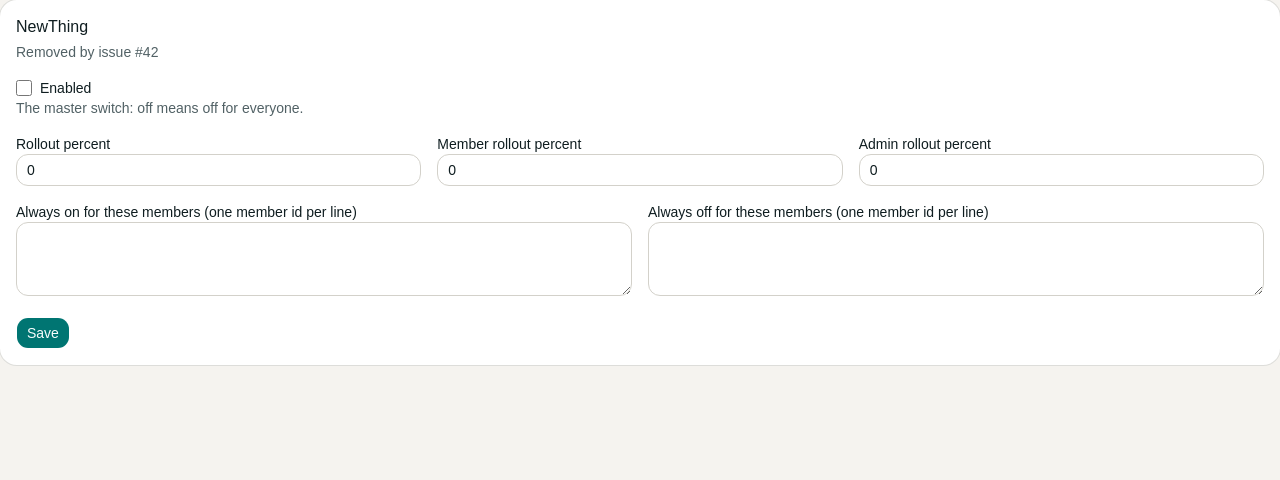
Test: FeatureFlagsAdminPage › says so when a flag no longer exists
Click the button with aria-label "Save NewThing".
click(43, 333)  # box x1=16 y1=317 x2=70 y2=349
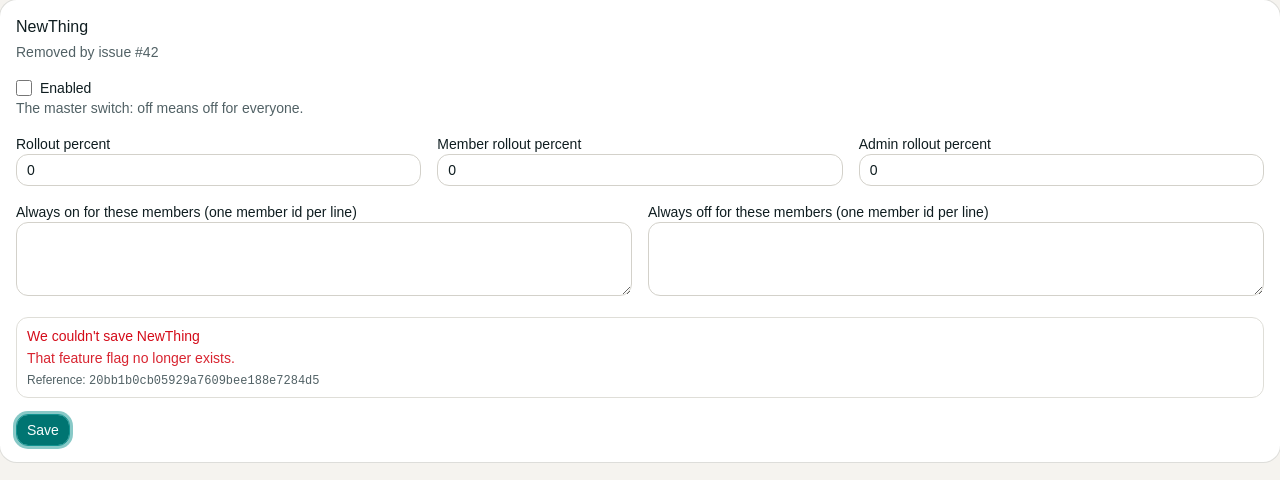
Expected: the message shows "no longer exists", x1=27 y1=350 x2=235 y2=366
